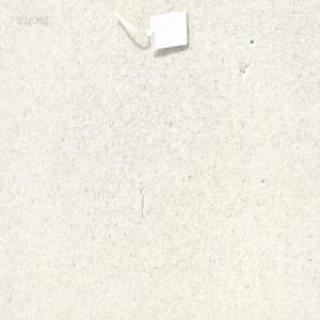LuggageTagtrack_idkeyframe: (109, 8, 189, 58)
